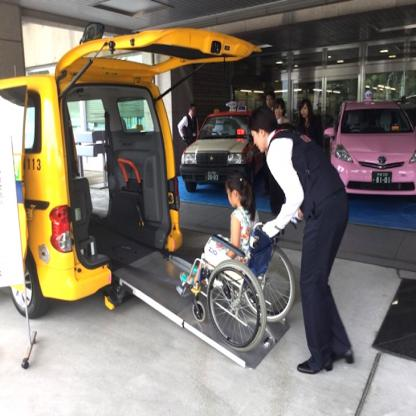wheelchair: (180, 172, 295, 350)
